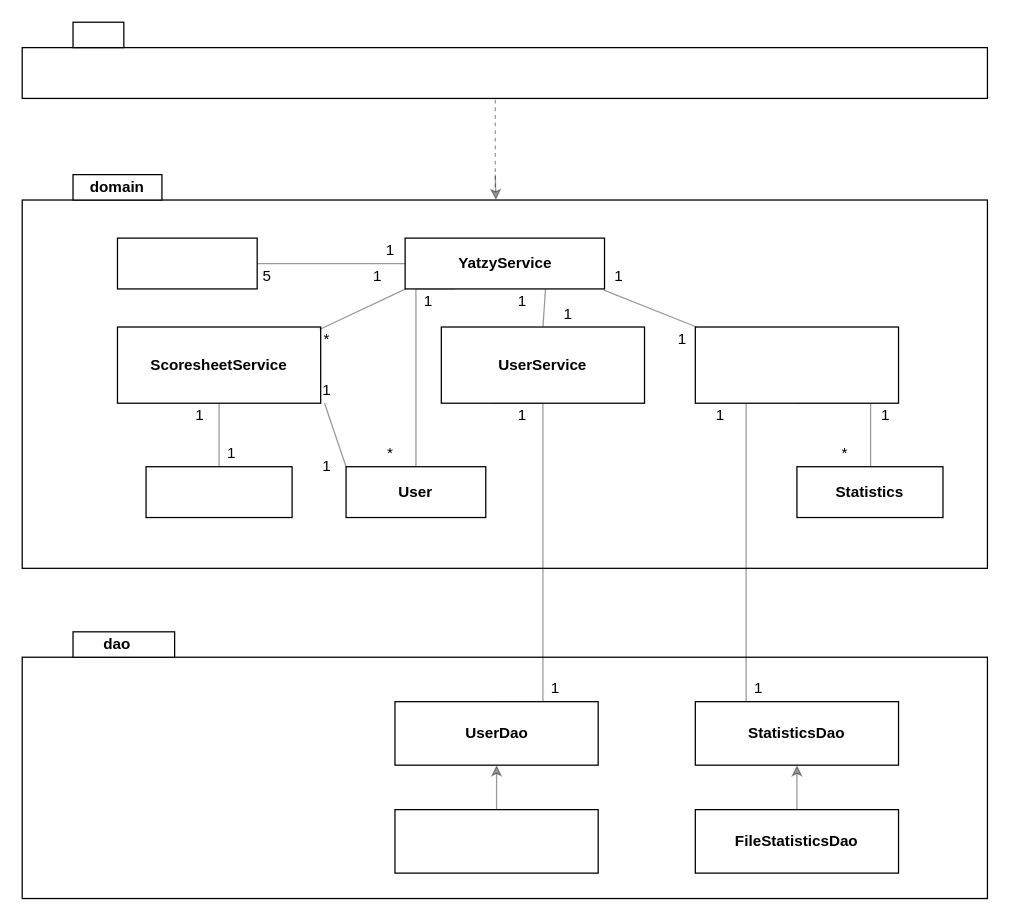
Image size: 1010x921. Some labels were removed from this diagram. The shapes that lost their labels are listed below. From the top down, each one's box as (x1, y1, x2, y2) in pixels, then its label:
(21, 46, 987, 98): yatzy.ui
(116, 237, 257, 289): Dice
(694, 326, 899, 403): StatisticsService
(145, 465, 292, 518): Scoresheet
(394, 808, 598, 873): FileUserDao
